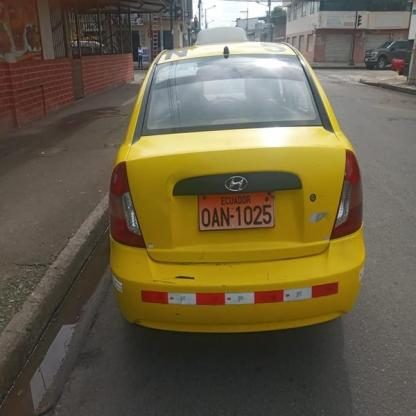Placa: (195, 190, 275, 232)
